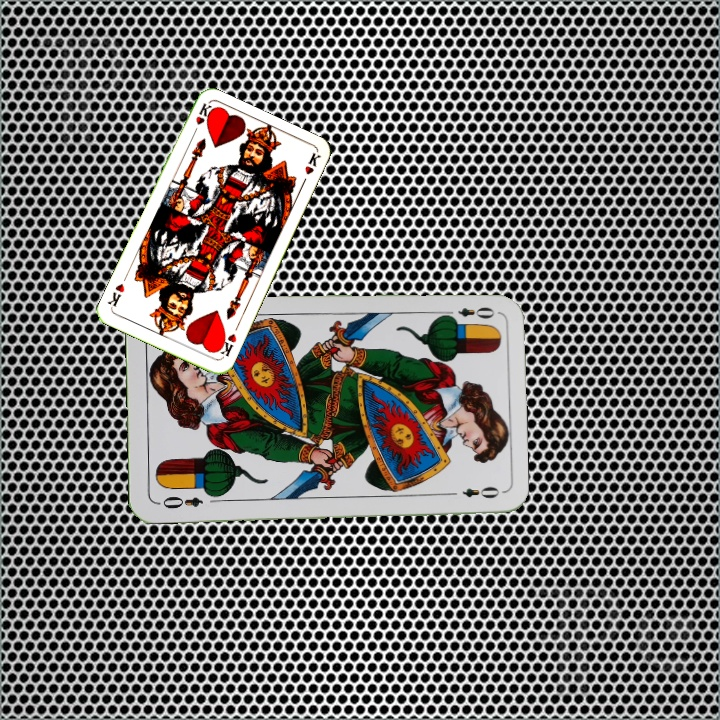EO: (440, 302, 498, 323), (153, 492, 205, 512)
HK: (188, 99, 214, 139), (213, 329, 239, 361)
